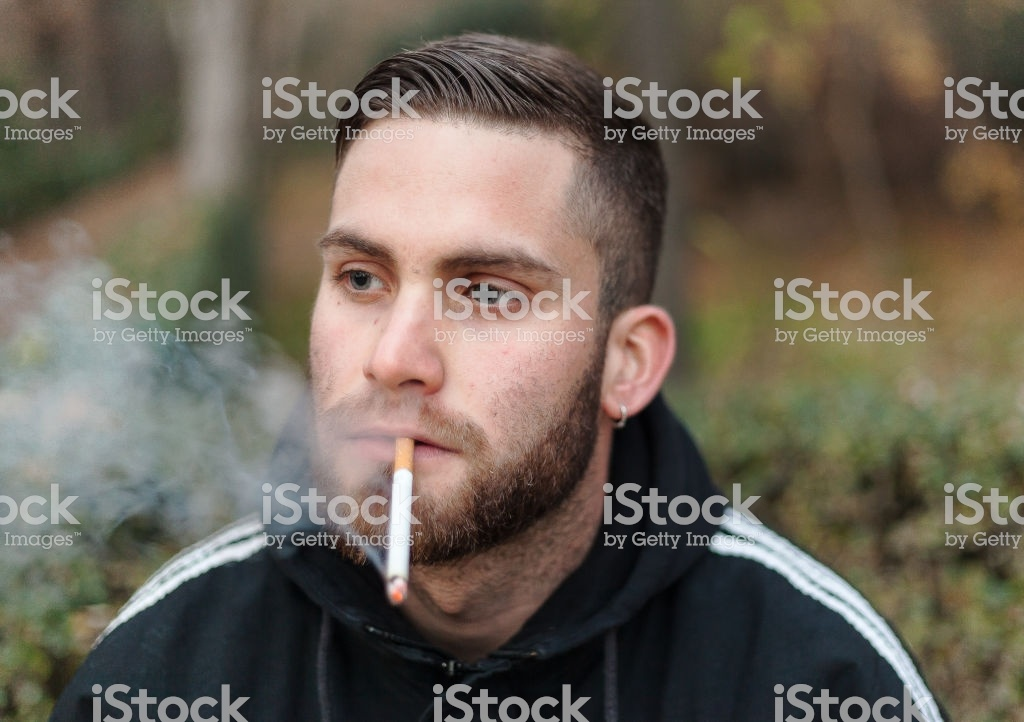sigaretta: (384, 423, 421, 595)
